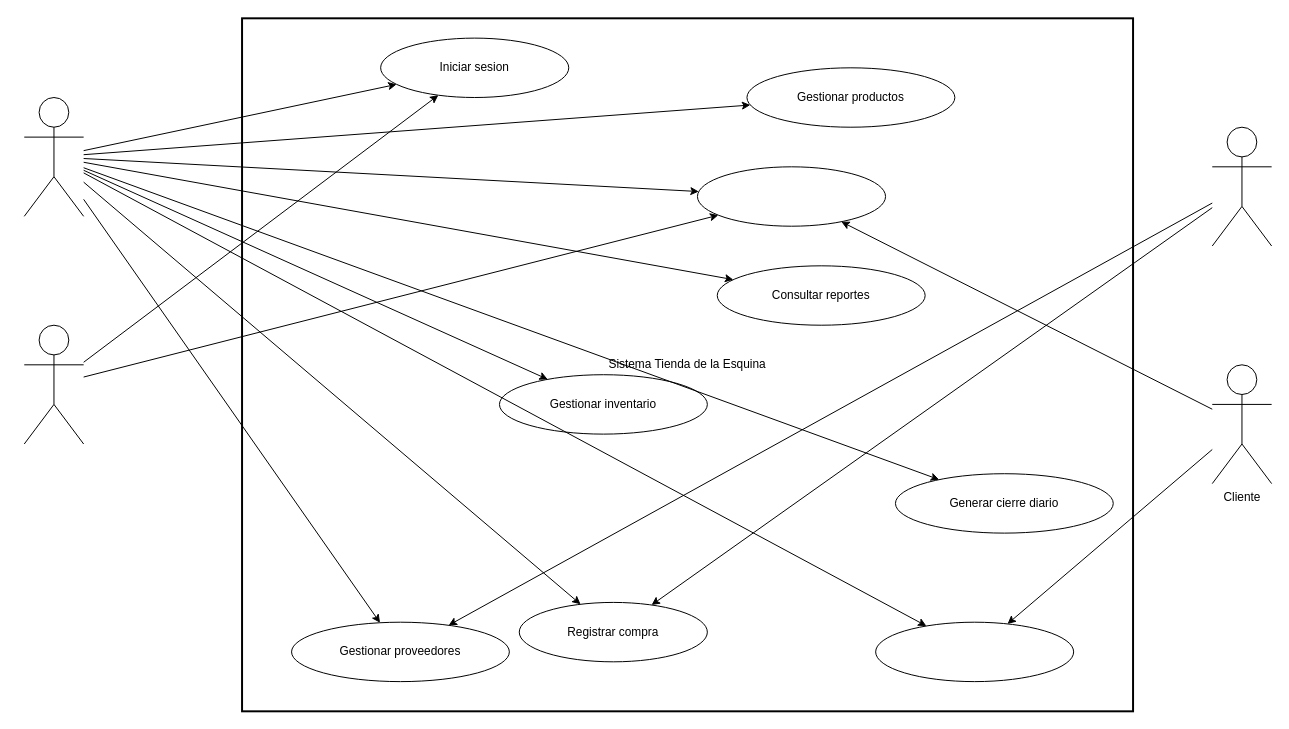
This 1289x729 diagram has some shape labels left out. The shapes that lost their labels are listed below. From the top down, each one's centre as x and y in pixels, then its label:
At [53,156]: "Administrador".
At [791,196]: "Registrar venta".
At [1241,186]: "Proveedor".
At [53,384]: "Empleado".
At [974,651]: "Gestionar clientes".
